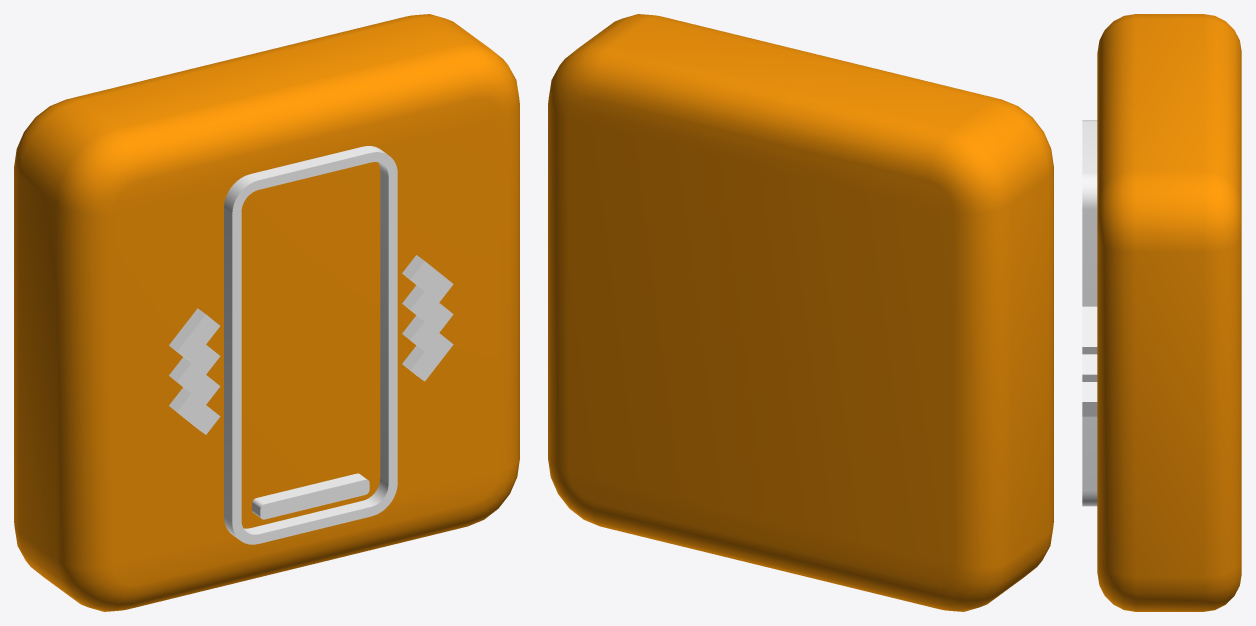
Rendered from vibration_mode.gltf.
3 renders of one model, left to right at view 1: azimuth 30°, elevation 25°; view 2: azimuth 150°, elevation 25°; view 3: azimuth 270°, elevation 25°, orthographic. The views are drawn at different scales.
Visible parts, largest first — view 1: Cube.147, Cube.127, Cube.291; view 2: Cube.147; view 3: Cube.147, Cube.127, Cube.291.
Part boxes in pixels (box(x1,y1,x2,y2)): Cube.147: box(14, 14, 519, 611); Cube.127: box(224, 146, 397, 544); Cube.291: box(169, 255, 453, 434); Cube.147: box(548, 14, 1053, 611); Cube.147: box(1097, 14, 1241, 611); Cube.127: box(1082, 120, 1097, 506); Cube.291: box(1082, 306, 1097, 416).
Bounding box in the file's own units: 2.2 × 2.2 × 0.73.
1 material, 1 textured.
